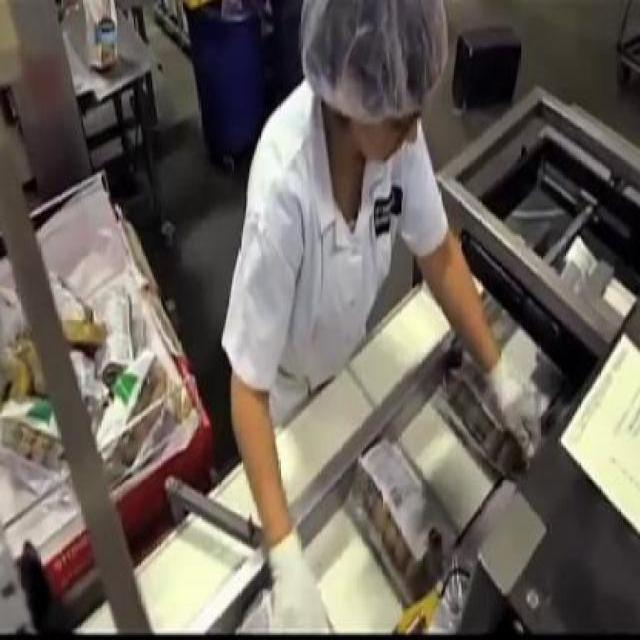hairnet: (299, 2, 444, 96)
